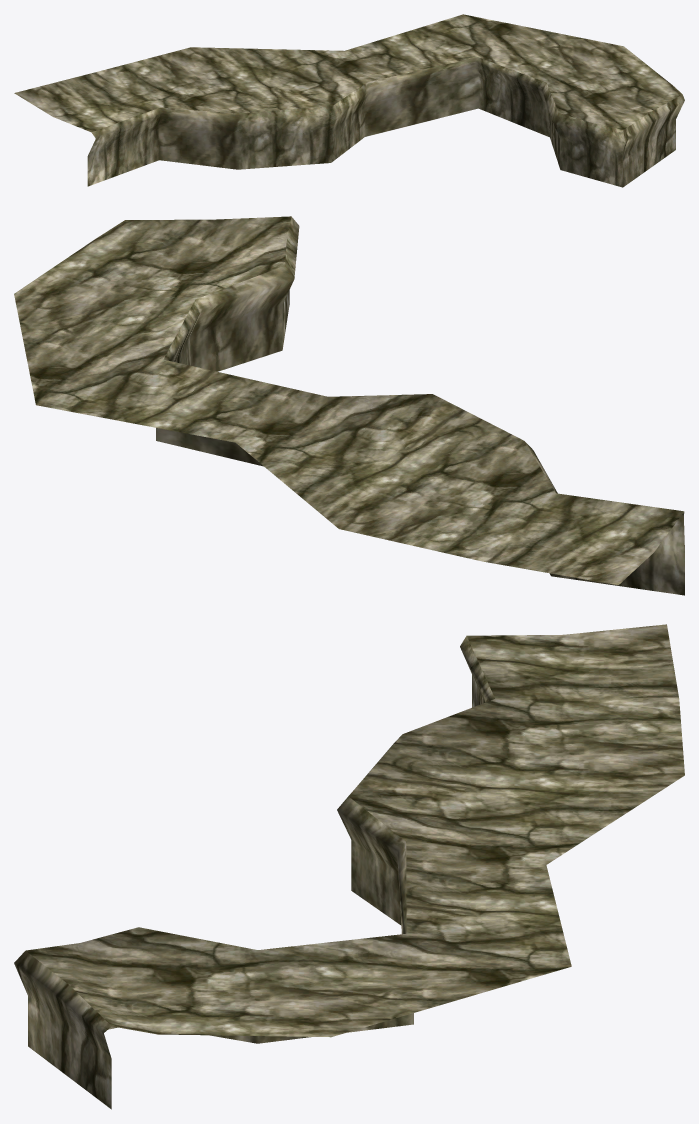
File: CB_NEWPLAYSURFACE_CB_PLAYSURFACE108.fbx
3 renders of one model, top to bottom at view 1: azimuth 30°, elevation 25°; view 2: azimuth 150°, elevation 25°; view 3: azimuth 270°, elevation 25°, orthographic. The views are drawn at different scales.
Visible parts, largest first — view 1: CB_NEWPLAYSURFACE_CB_PLAYSURFACE108; view 2: CB_NEWPLAYSURFACE_CB_PLAYSURFACE108; view 3: CB_NEWPLAYSURFACE_CB_PLAYSURFACE108.
Part boxes in pixels (box(x1,y1,x2,y2)): CB_NEWPLAYSURFACE_CB_PLAYSURFACE108: box(14, 14, 684, 187); CB_NEWPLAYSURFACE_CB_PLAYSURFACE108: box(14, 216, 684, 595); CB_NEWPLAYSURFACE_CB_PLAYSURFACE108: box(14, 624, 684, 1109).
Bounding box in the file's own units: 254511 × 27769 × 176719.
Materials: 2 (2 with a texture image).
